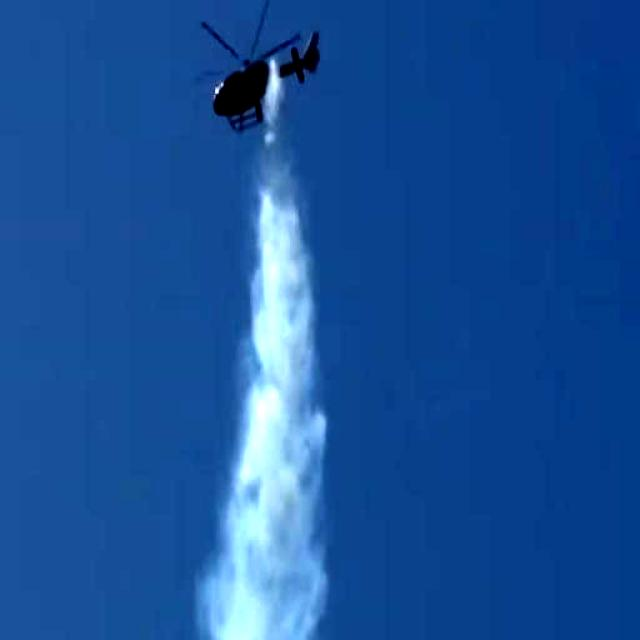drone: (202, 4, 341, 135)
